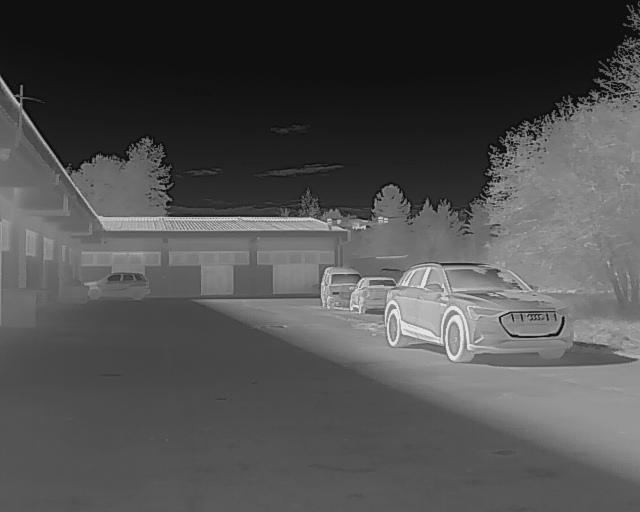drone: (311, 207, 399, 242)
